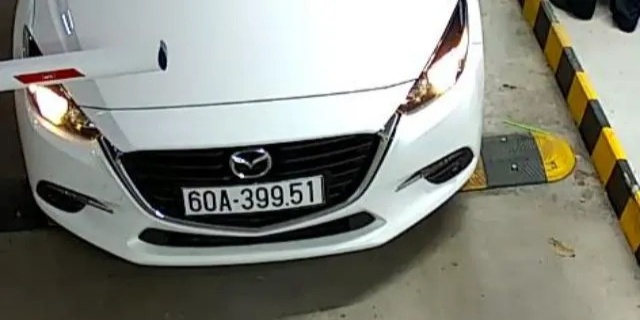bien_so: (186, 178, 322, 211)
